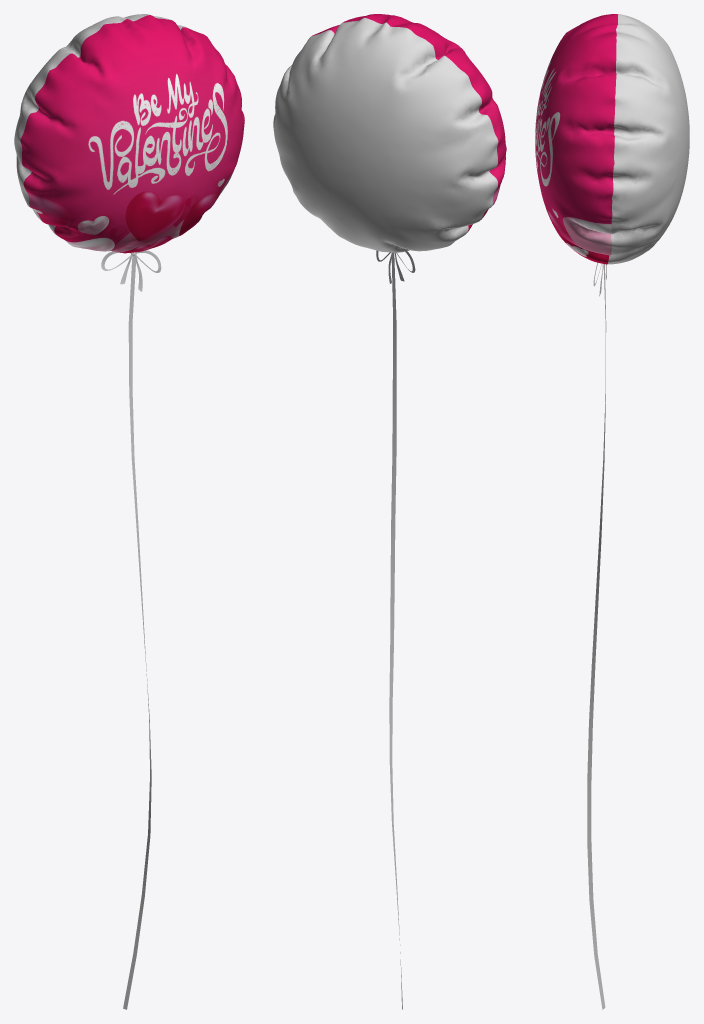
3 views of the same model, side by side, from view 1: azimuth 30°, elevation 25°; view 2: azimuth 150°, elevation 25°; view 3: azimuth 270°, elevation 25° (orthographic).
Parts seen in each view (by area): view 1: Valentines-Round-3; view 2: Valentines-Round-3; view 3: Valentines-Round-3.
Boxes of the visible parts, x1,y1,x2,y2 form: Valentines-Round-3: (14,14,244,1009); Valentines-Round-3: (273,14,506,1009); Valentines-Round-3: (535,14,689,1009).
Bounding box in the file's own units: 40.89 × 176 × 24.99.
3 materials, 1 textured.
